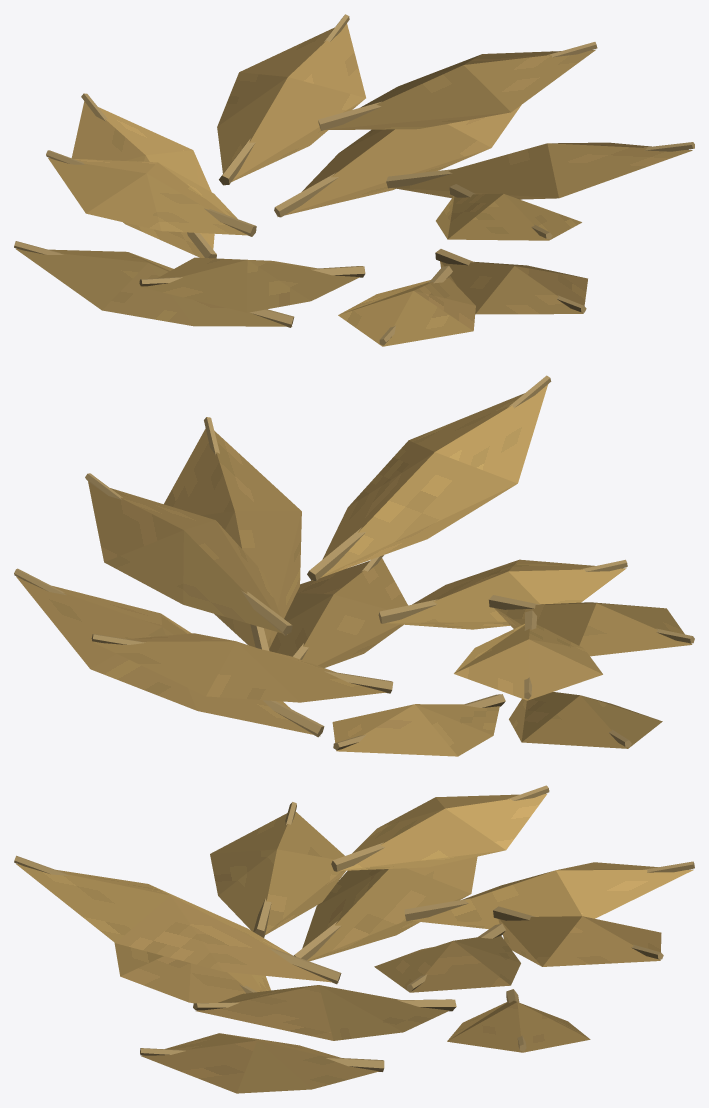
File: withered.glb
The picture shows the model from 3 angles, top to bottom: view 1: azimuth 30°, elevation 25°; view 2: azimuth 150°, elevation 25°; view 3: azimuth 270°, elevation 25°; orthographic projection. The views are drawn at different scales.
Visible parts, largest first — view 1: block_veined leaf blade (×17), block_veined leaf tip (×20), block_veined leaf vein (×9); view 2: block_veined leaf blade (×17), block_veined leaf tip (×22), block_veined leaf vein (×8); view 3: block_veined leaf blade (×16), block_veined leaf tip (×19), block_veined leaf vein (×8).
Boxes of the visible parts, box(x1,y1,x2,y2) form: block_veined leaf blade (×17): box(86, 54, 558, 330); block_veined leaf tip (×20): box(15, 24, 692, 346); block_veined leaf vein (×9): box(14, 14, 694, 327); block_veined leaf blade (×17): box(91, 440, 602, 756); block_veined leaf tip (×22): box(16, 384, 691, 756); block_veined leaf vein (×8): box(14, 375, 694, 750); block_veined leaf blade (×16): box(116, 797, 581, 1093); block_veined leaf tip (×19): box(16, 793, 693, 1093); block_veined leaf vein (×8): box(14, 785, 694, 1071).
Size of the model in its own units: 0.1028 by 0.0309 by 0.1058.
Materials: 2 (2 with a texture image).
